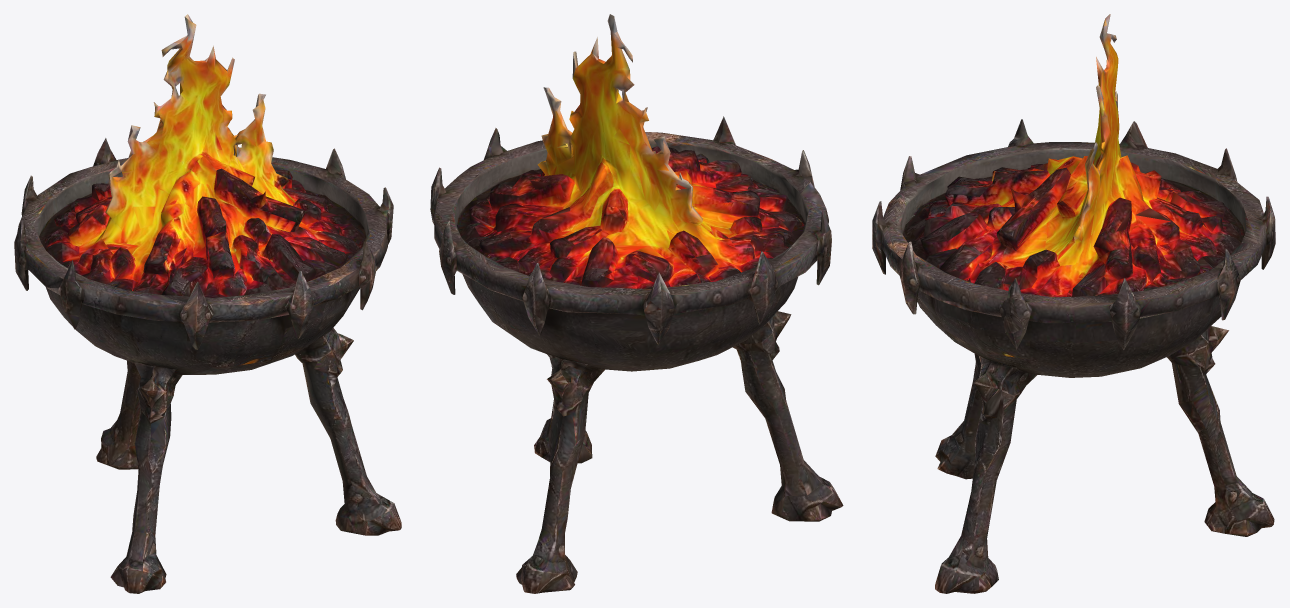
Rendered from braseiro.glb.
The picture shows the model from 3 angles, left to right: view 1: azimuth 30°, elevation 25°; view 2: azimuth 150°, elevation 25°; view 3: azimuth 270°, elevation 25°; orthographic projection. The views are drawn at different scales.
Parts seen in each view (by area): view 1: braseiro; view 2: braseiro; view 3: braseiro.
Boxes of the visible parts, box(x1,y1,x2,y2) form: braseiro: box(14, 14, 401, 593); braseiro: box(430, 14, 843, 593); braseiro: box(872, 14, 1275, 593).
Size of the model in its own units: 0.9791 by 1.4 by 1.
1 material, 1 textured.
